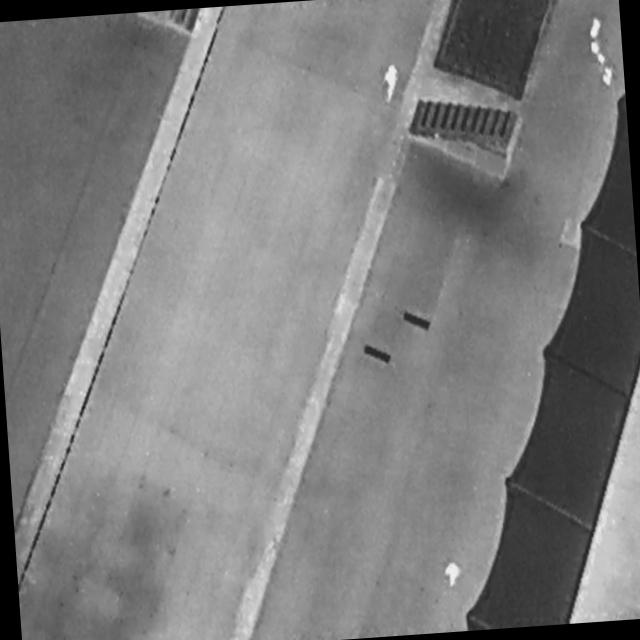person: (377, 61, 403, 105), (443, 559, 463, 588)
